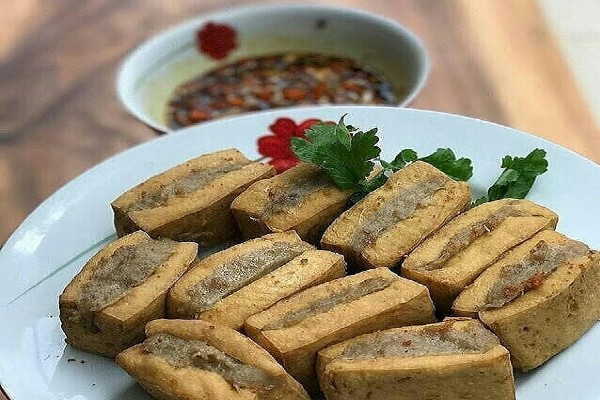Tahu: (474, 221, 596, 350), (114, 129, 253, 238), (65, 209, 185, 335), (331, 148, 457, 266), (319, 318, 499, 400), (182, 232, 320, 319), (415, 191, 535, 290), (247, 152, 359, 233)
